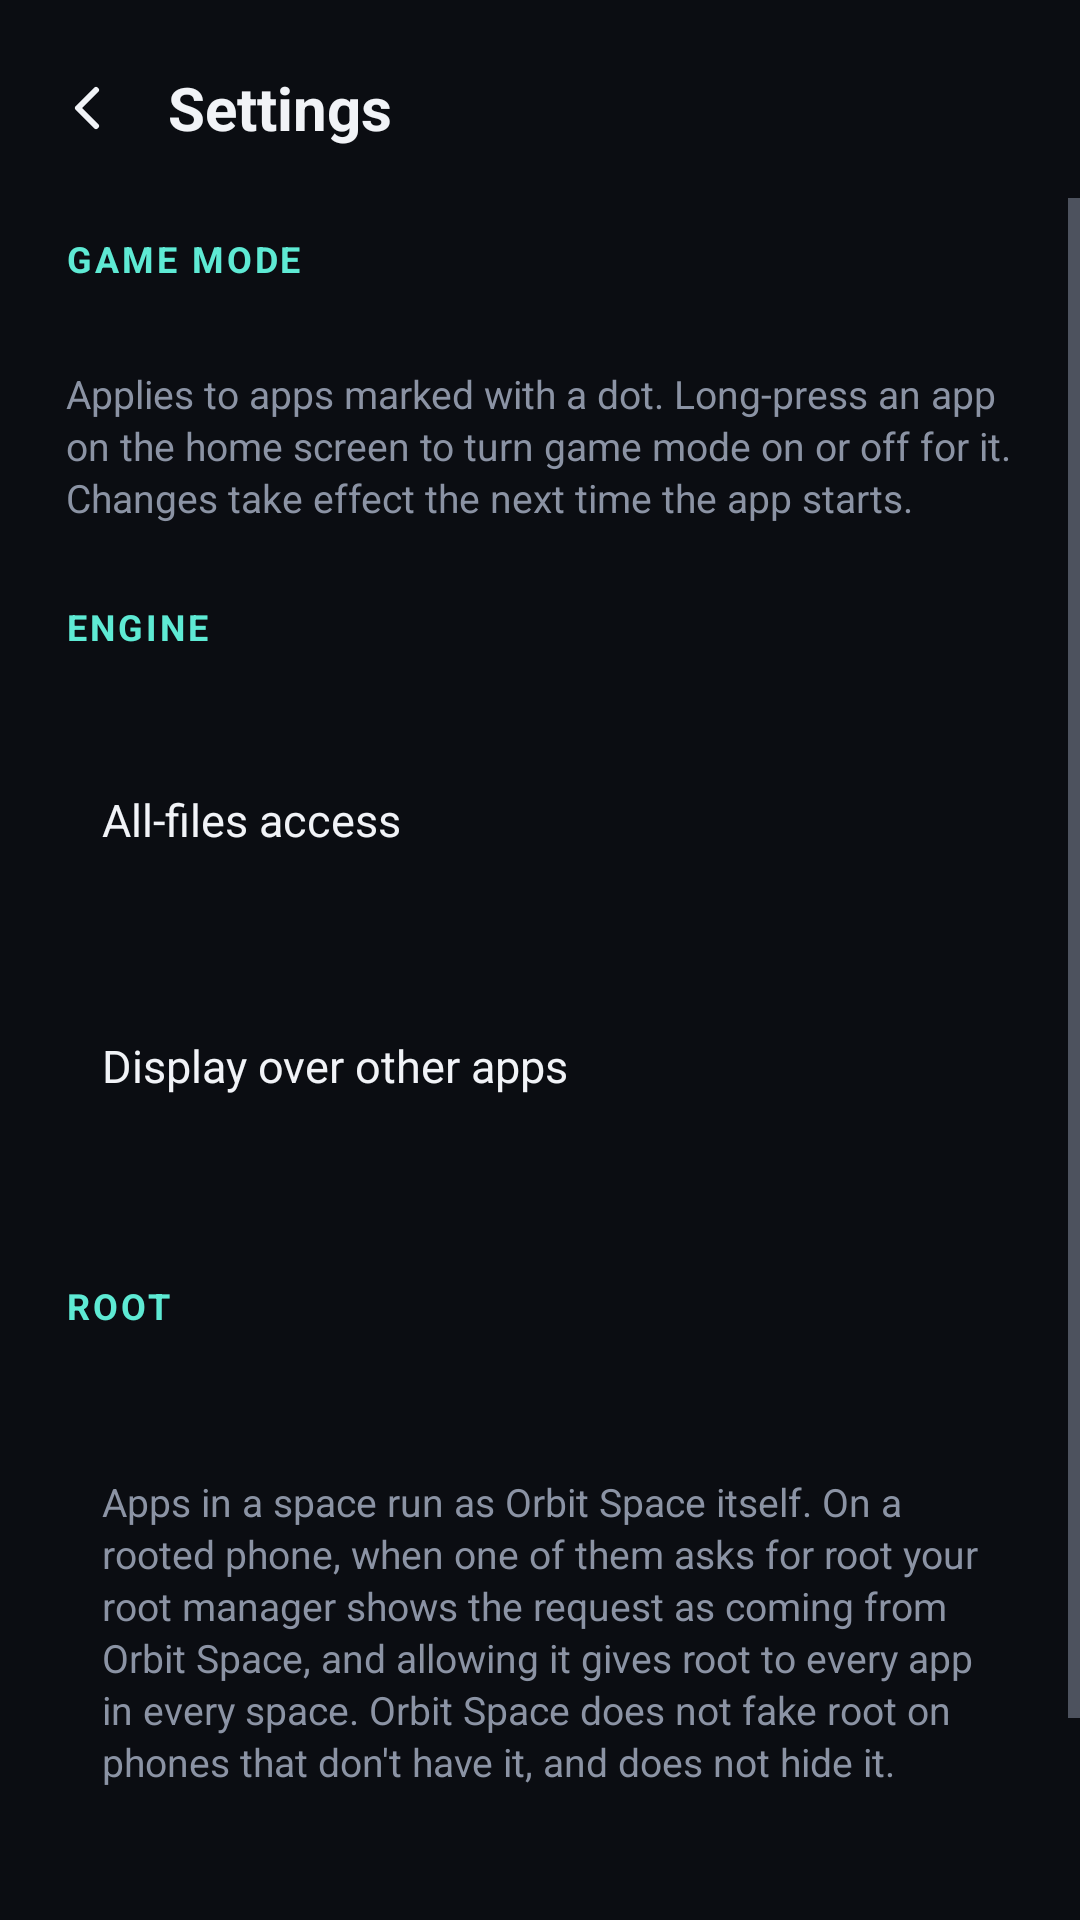

Where to tap for icons on this 1080w x 1920h app screen, as point (x, y):
Back: point (87, 108)
